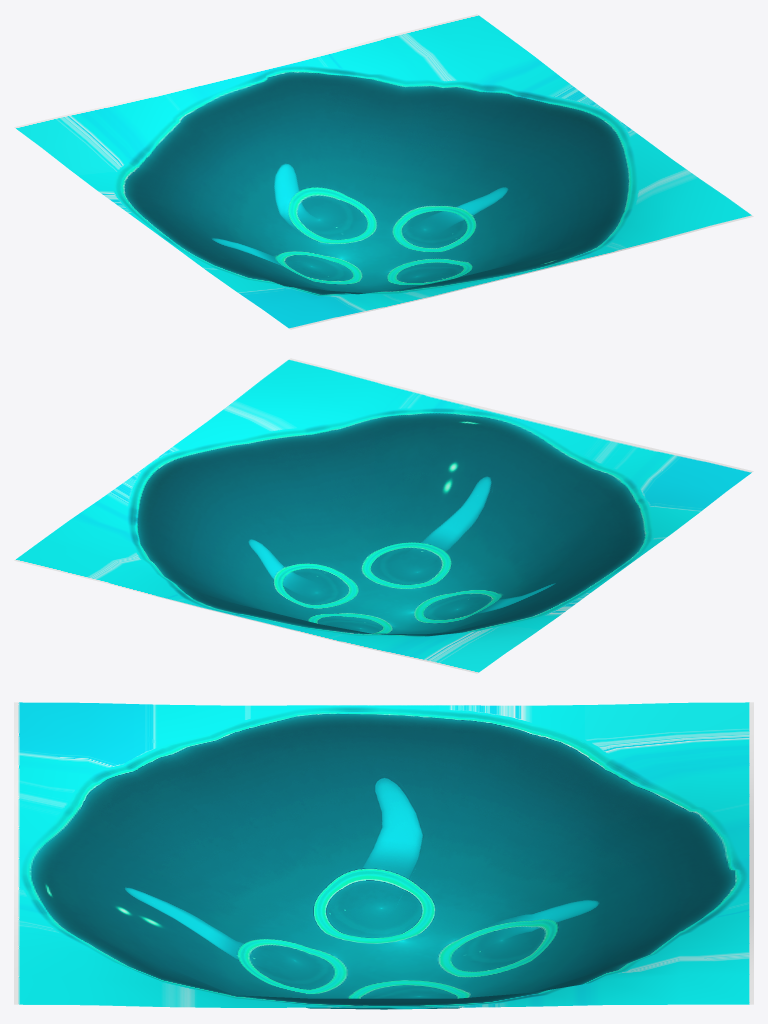
The model's file is deniz_validesi.glb.
The picture shows the model from 3 angles, top to bottom: view 1: azimuth 30°, elevation 25°; view 2: azimuth 150°, elevation 25°; view 3: azimuth 270°, elevation 25°; orthographic projection. The views are drawn at different scales.
Parts seen in each view (by area): view 1: Plane002; view 2: Plane002; view 3: Plane002.
Boxes of the visible parts, x1,y1,x2,y2 form: Plane002: (14, 14, 753, 329); Plane002: (14, 358, 753, 673); Plane002: (14, 702, 753, 1009).
Size of the model in its own units: 1.32 by 0.2298 by 1.37.
1 material, 1 textured.
